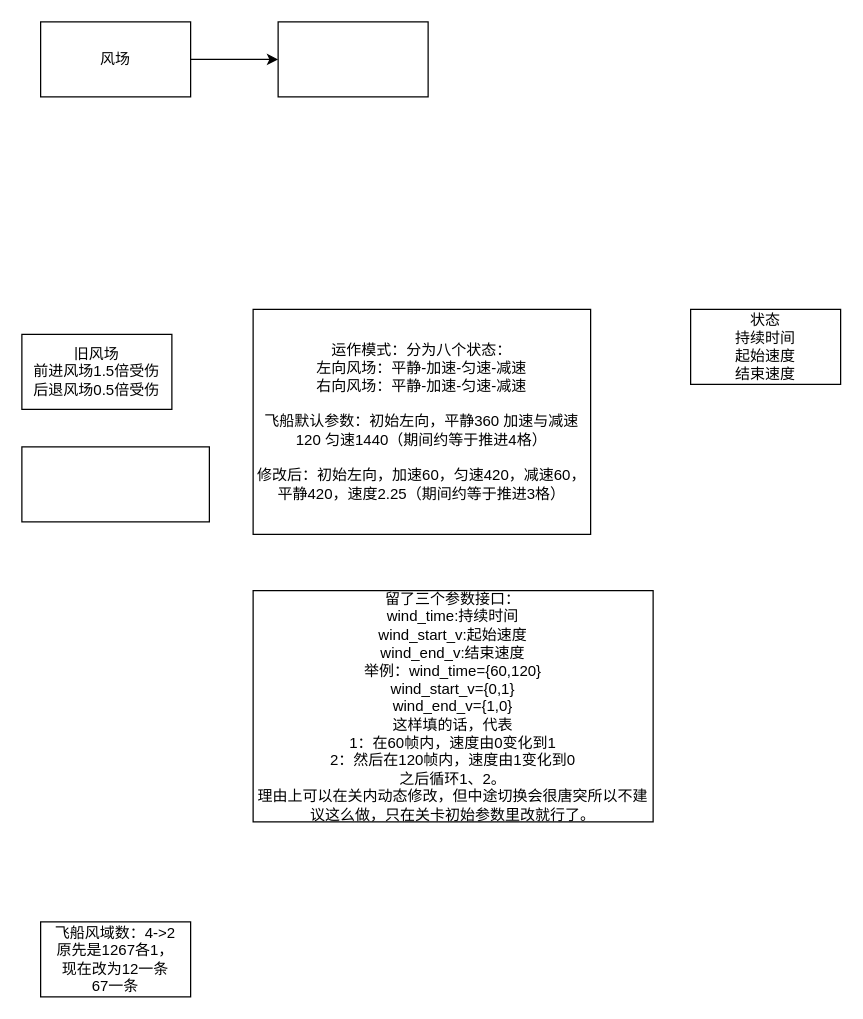
The diagram is 863 pixels wide and 1019 high, and some of its shapes have lost their labels. Here are the shapes that lost their labels. From the top down, the centre of each, then its label:
point (352, 59): 增加参数接口
point (115, 484): wind_add_dmg:增伤倍率 wind_dec_dmg:减伤倍率 现在都默认为1
